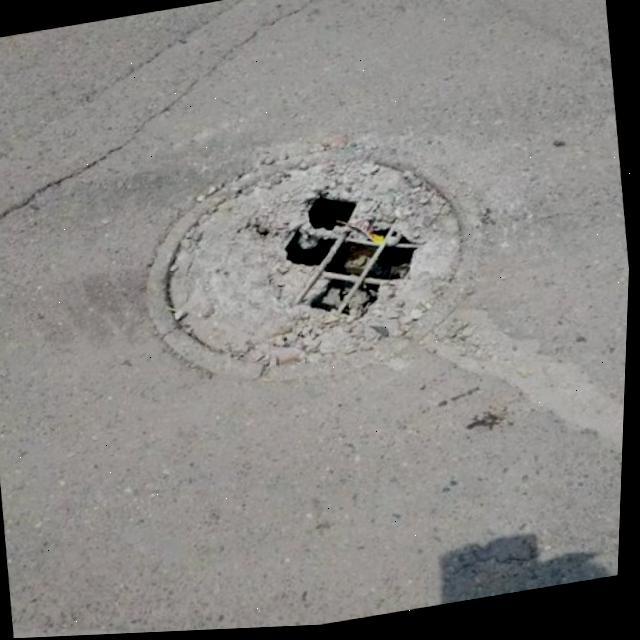manhole: (119, 114, 499, 403)
